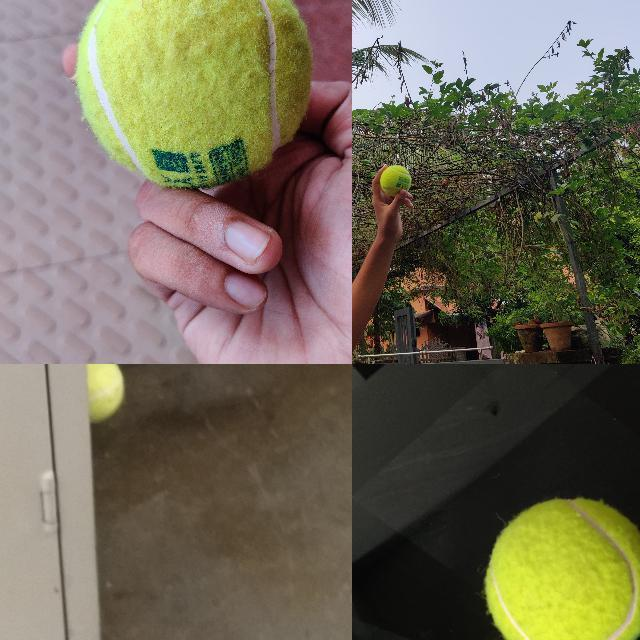tennis-ball: (75, 0, 314, 191), (484, 498, 639, 639), (91, 364, 126, 423), (380, 165, 412, 197)
